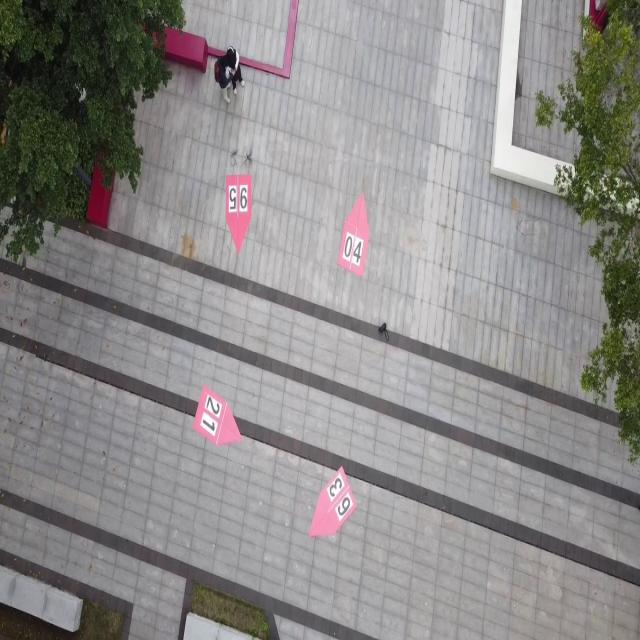-sign-: (309, 467, 359, 539), (193, 385, 241, 448), (336, 190, 369, 278), (224, 172, 257, 250)
